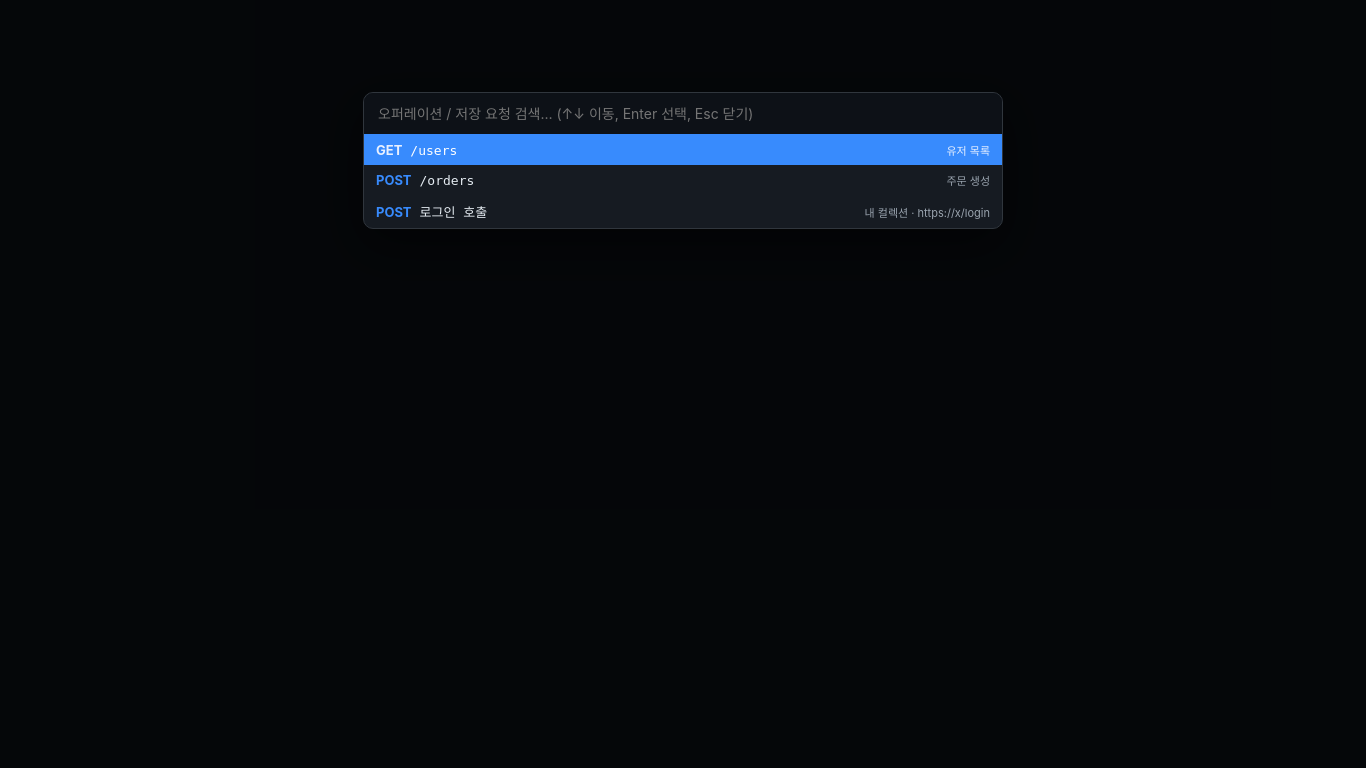
Test: CommandPalette › 검색어로 필터링한다
Type "orders" into the field at (683, 114), box [364,93,1002,135]
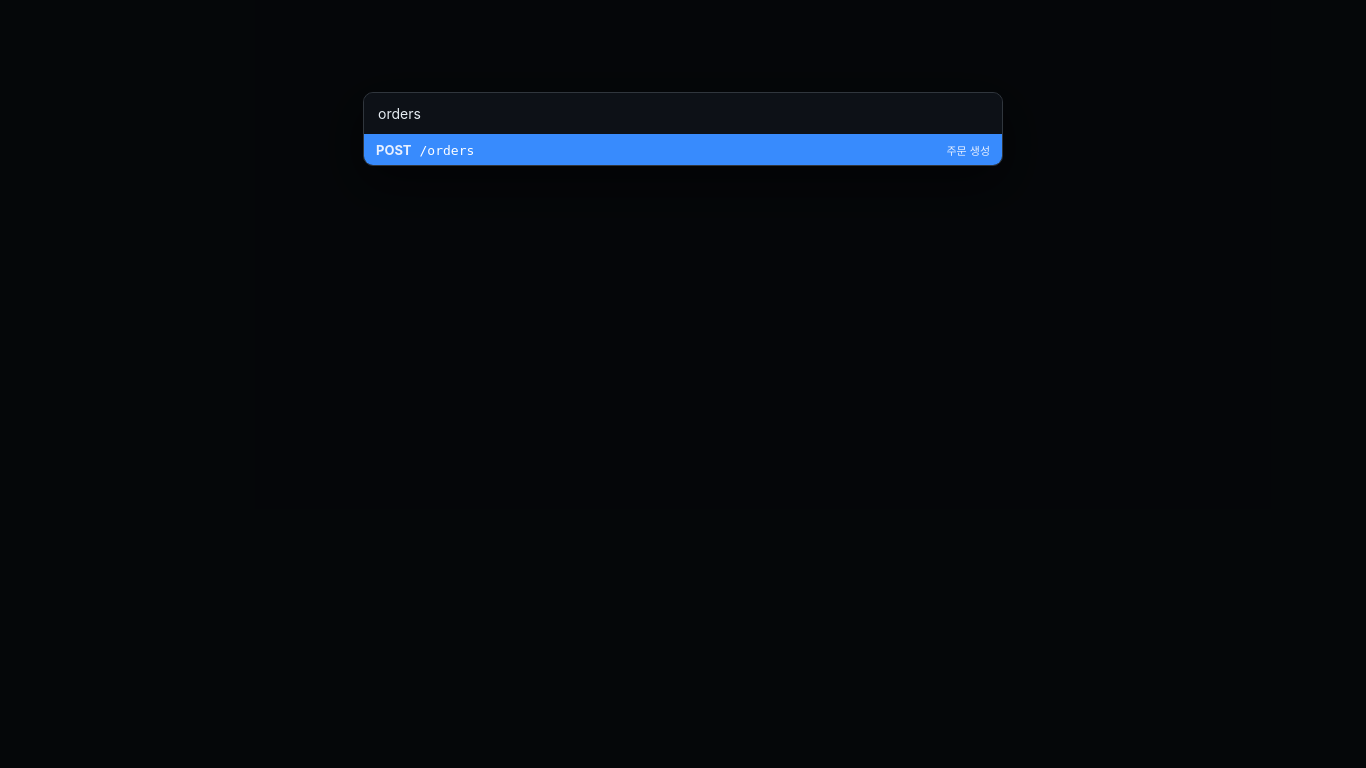
Expected: the text "/orders" is shown, [420,143,474,158]
Now the text "/users" is gone
